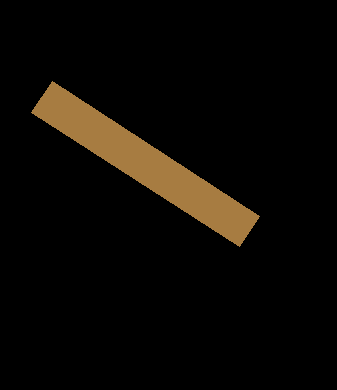parkingspot: (30, 81, 259, 247)
